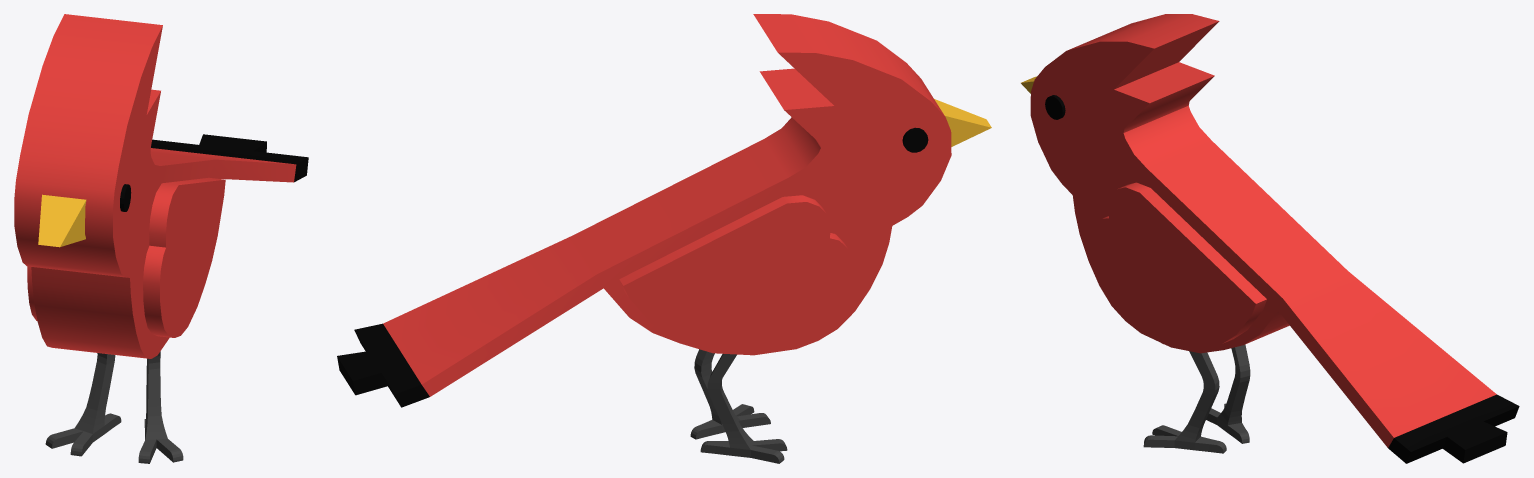
Rendered from bird.gltf.
3 views of the same model, side by side, from view 1: azimuth 30°, elevation 25°; view 2: azimuth 150°, elevation 25°; view 3: azimuth 270°, elevation 25° (orthographic). The views are drawn at different scales.
Parts seen in each view (by area): view 1: Plane.153; view 2: Plane.153; view 3: Plane.153.
Part boxes in pixels (x1,y1,x2,y2): Plane.153: (14,14,308,463); Plane.153: (337,14,991,463); Plane.153: (1021,14,1519,463).
Bounding box in the file's own units: 2.12 × 1.84 × 2.12.
1 material, 1 textured.
